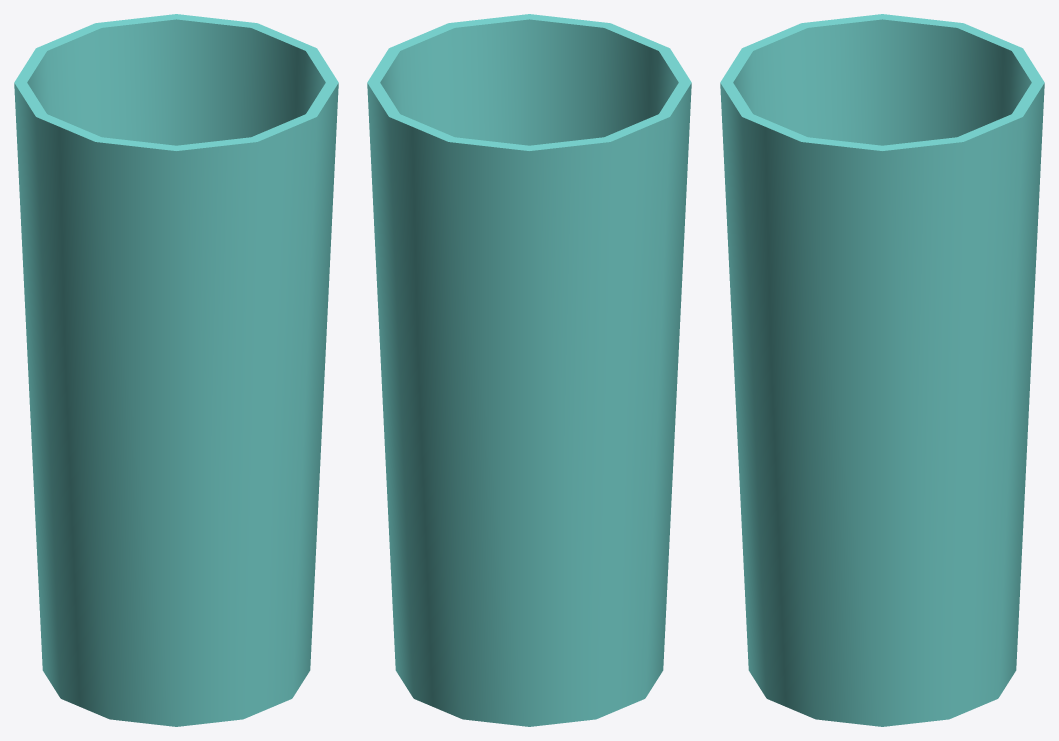
Rendered from Glass Test.fbx.
The picture shows the model from 3 angles, left to right: view 1: azimuth 30°, elevation 25°; view 2: azimuth 150°, elevation 25°; view 3: azimuth 270°, elevation 25°; orthographic projection.
Visible parts, largest first — view 1: Cylinder.002; view 2: Cylinder.002; view 3: Cylinder.002.
Boxes of the visible parts, left/top/right/bottom form: Cylinder.002: left=14, top=14, right=338, bottom=726; Cylinder.002: left=367, top=14, right=691, bottom=726; Cylinder.002: left=720, top=14, right=1044, bottom=726.
Size of the model in its own units: 0.07 by 0.1399 by 0.07.
